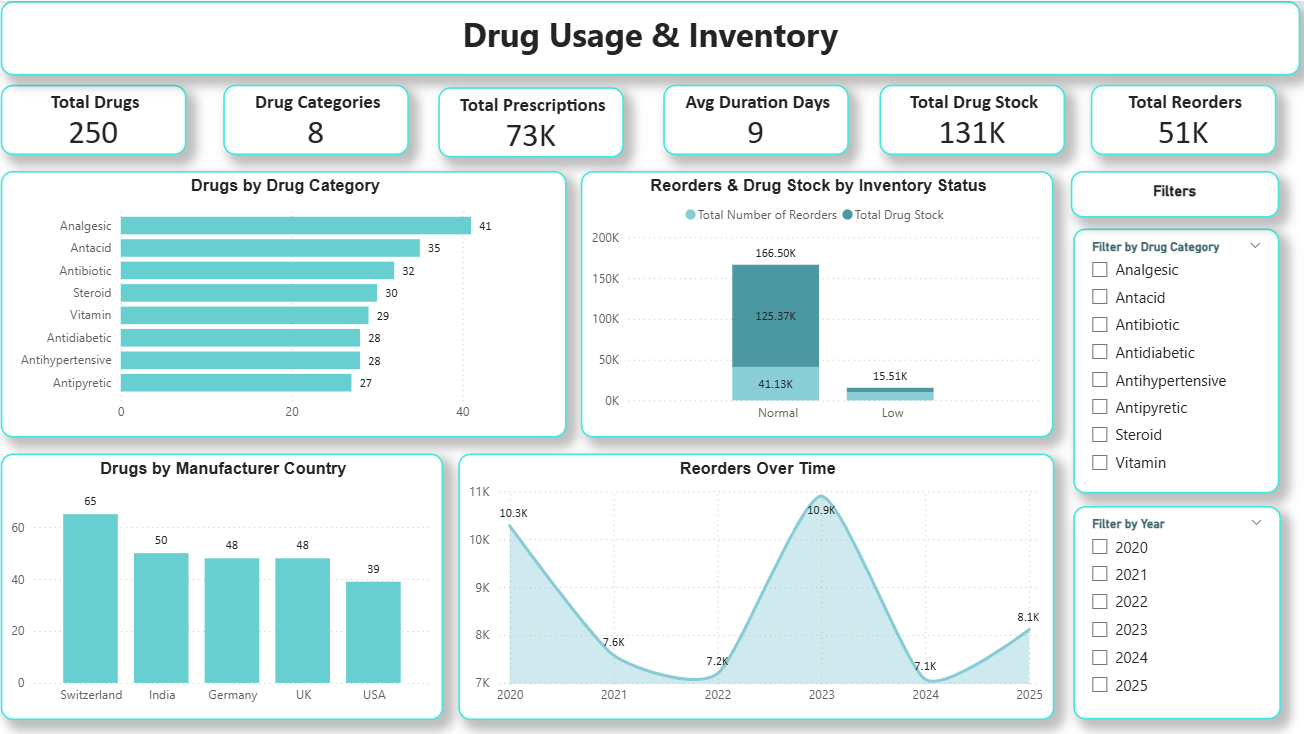

This screenshot's page, from the dashboard's own definition file:
{"tool":"powerbi","page":{"name":"Drugs","canvas":[1280,720],"ordinal":3},"visuals":[{"type":"card","title":"Total Drugs","fields":{"Values":["Drugs.Total Number of Drugs"]},"box":[3.9,81.8,181.8,68.8],"z":0},{"type":"textbox","box":[3.9,0,1271.4,72.7],"z":1000},{"type":"card","title":"Drug Categories","fields":{"Values":["Drugs.Total Number of Drug Categories"]},"box":[220.8,81.8,181.8,68.8],"z":2000},{"type":"card","title":"Total Prescriptions","fields":{"Values":["Prescriptions.Total Prescriptions"]},"box":[431.2,84.4,181.8,68.8],"z":3000},{"type":"card","title":"Avg Duration Days","fields":{"Values":["Prescriptions.Average Duration Days"]},"box":[651.9,81.8,181.8,68.8],"z":4000},{"type":"barChart","title":"Drugs by Drug Category","fields":{"Y":["Drugs.Total Number of Drugs"],"Category":["Drugs.drug_category"]},"box":[3.7,166.3,553.9,260.5],"z":5000},{"type":"columnChart","title":"Drugs by Manufacturer Country","fields":{"Category":["Drugs.manufacturer_country"],"Y":["Drugs.Total Number of Drugs"]},"box":[3.9,442.9,432.5,261],"z":6000},{"type":"slicer","fields":{"Values":["Drugs.drug_category"]},"box":[1052.9,222.6,201.8,259.2],"z":8000},{"type":"card","title":"Total Drug Stock","fields":{"Values":["Drug Inventory.Total Drug Stock"]},"box":[863.6,81.8,181.8,68.8],"z":9000},{"type":"card","title":"Total Reorders","fields":{"Values":["Drug Inventory.Total Number of Reorders"]},"box":[1070.1,81.8,181.8,68.8],"z":10000},{"type":"columnChart","title":"Reorders & Drug Stock by Inventory Status","fields":{"Category":["Drug Inventory.inventory_status"],"Y":["Drug Inventory.Total Number of Reorders","Drug Inventory.Total Drug Stock"]},"box":[571.4,166.2,462.3,261],"z":11000},{"type":"areaChart","title":"Reorders Over Time","fields":{"Category":["Date.year"],"Y":["Drug Inventory.Total Number of Reorders"]},"box":[450.6,442.9,583.1,261],"z":12000},{"type":"slicer","fields":{"Values":["Date.year"]},"box":[1052.9,494,203,209.1],"z":13000},{"type":"textbox","box":[1050.4,166.3,204.2,45.2],"z":14000}]}

Visuals, with their boxes in screenshot pixels (x1, y1, x2, y2), scaled from the page's 1280x720 canvas onto the 1304x734 screenshot:
"Total Drugs" card: box(4, 83, 189, 154)
textbox: box(4, 0, 1299, 74)
"Drug Categories" card: box(225, 83, 410, 154)
"Total Prescriptions" card: box(439, 86, 624, 156)
"Avg Duration Days" card: box(664, 83, 849, 154)
"Drugs by Drug Category" barChart: box(4, 170, 568, 435)
"Drugs by Manufacturer Country" columnChart: box(4, 452, 445, 718)
slicer - Drugs.drug_category: box(1073, 227, 1278, 491)
"Total Drug Stock" card: box(880, 83, 1065, 154)
"Total Reorders" card: box(1090, 83, 1275, 154)
"Reorders & Drug Stock by Inventory Status" columnChart: box(582, 169, 1053, 436)
"Reorders Over Time" areaChart: box(459, 452, 1053, 718)
slicer - Date.year: box(1073, 504, 1279, 717)
textbox: box(1070, 170, 1278, 216)
